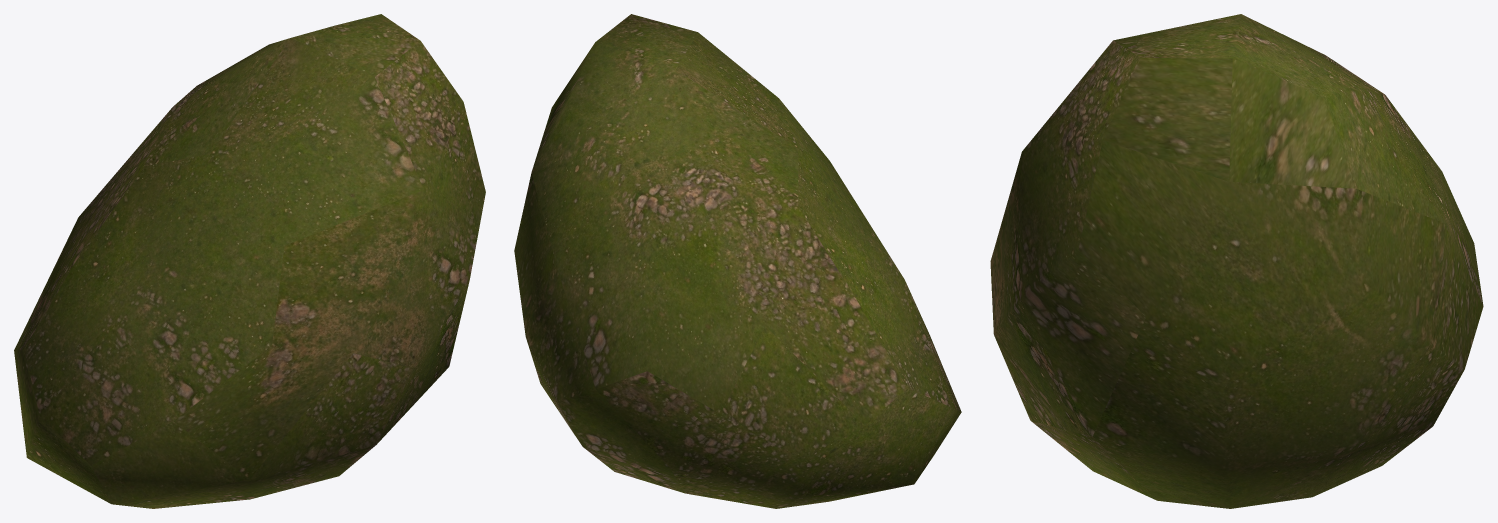
Rendered from boulder.glb.
The picture shows the model from 3 angles, left to right: view 1: azimuth 30°, elevation 25°; view 2: azimuth 150°, elevation 25°; view 3: azimuth 270°, elevation 25°; orthographic projection. The views are drawn at different scales.
Parts seen in each view (by area): view 1: Boulder; view 2: Boulder; view 3: Boulder.
Part boxes in pixels (bbox=[...]): Boulder: bbox=[14, 14, 485, 508]; Boulder: bbox=[514, 14, 961, 508]; Boulder: bbox=[990, 14, 1483, 508].
Size of the model in its own units: 4.46 by 4.31 by 3.89.
Materials: 1 (1 with a texture image).
